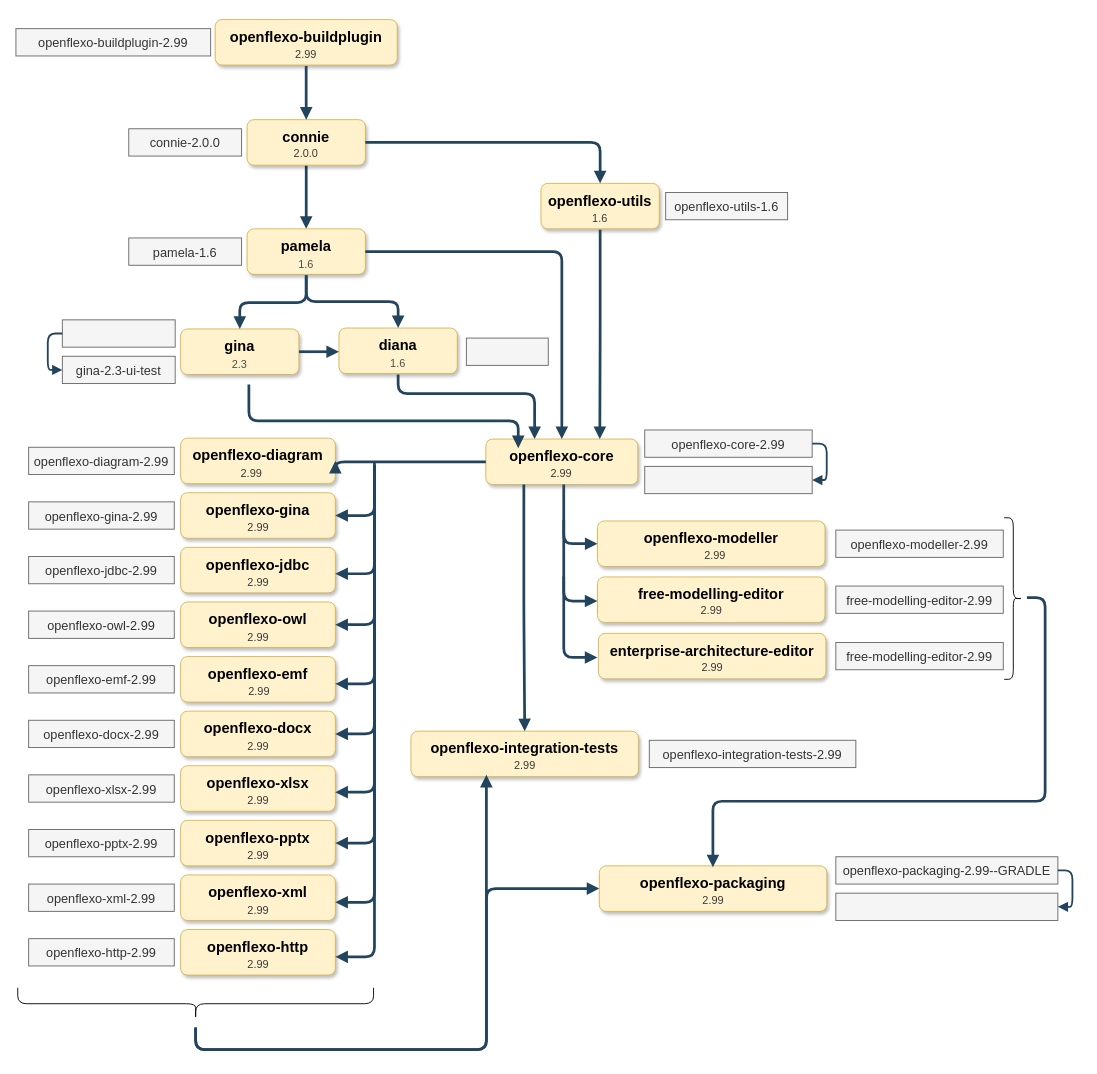
This 1097x1074 diagram has some shape labels left out. Here are the shapes that lost their labels. From the top down, the centre of each, then its label:
At [118,333]: "gina-2.3".
At [506,351]: "diana-1.6".
At [728,479]: "openflexo-core-2.99-ui-test".
At [946,906]: "openflexo-packaging-2.99--MAVEN".
